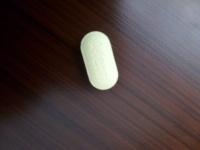Aferin: (79, 31, 119, 91)
